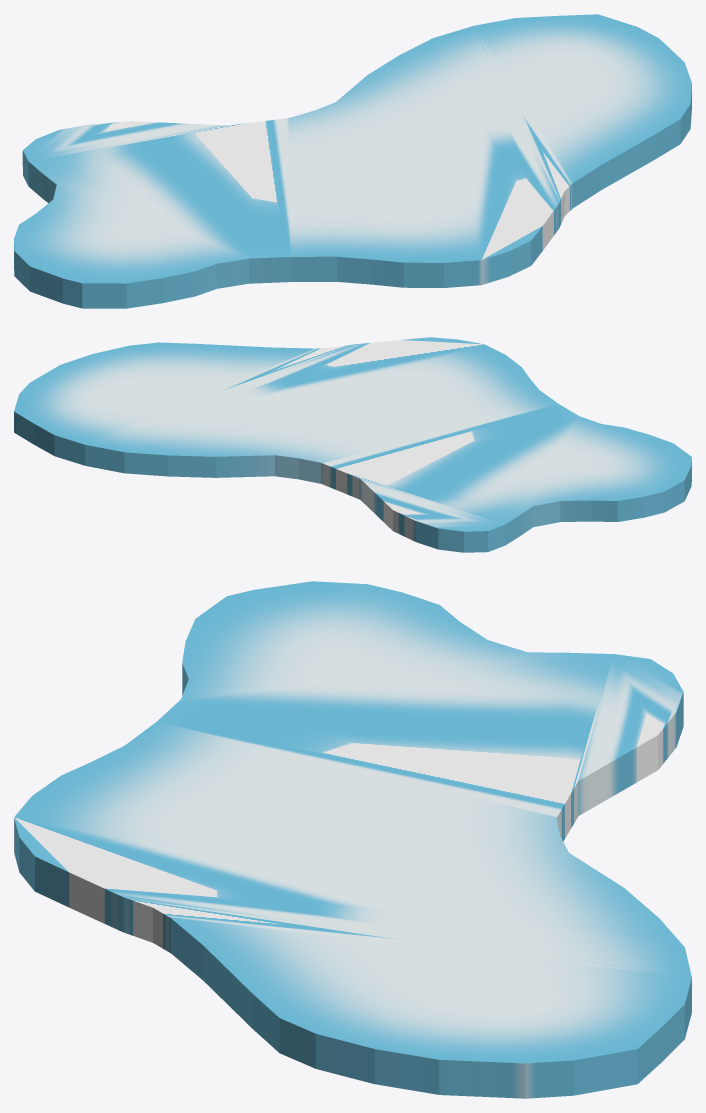
Rendered from flaque.blend1.fbx.
The picture shows the model from 3 angles, top to bottom: view 1: azimuth 30°, elevation 25°; view 2: azimuth 150°, elevation 25°; view 3: azimuth 270°, elevation 25°; orthographic projection. The views are drawn at different scales.
Parts seen in each view (by area): view 1: Plane; view 2: Plane; view 3: Plane.
Part boxes in pixels (left/top/right/bottom): Plane: left=14, top=14, right=691, bottom=308; Plane: left=14, top=337, right=691, bottom=552; Plane: left=14, top=581, right=691, bottom=1098.
Bounding box in the file's own units: 181 × 6.19 × 108.
